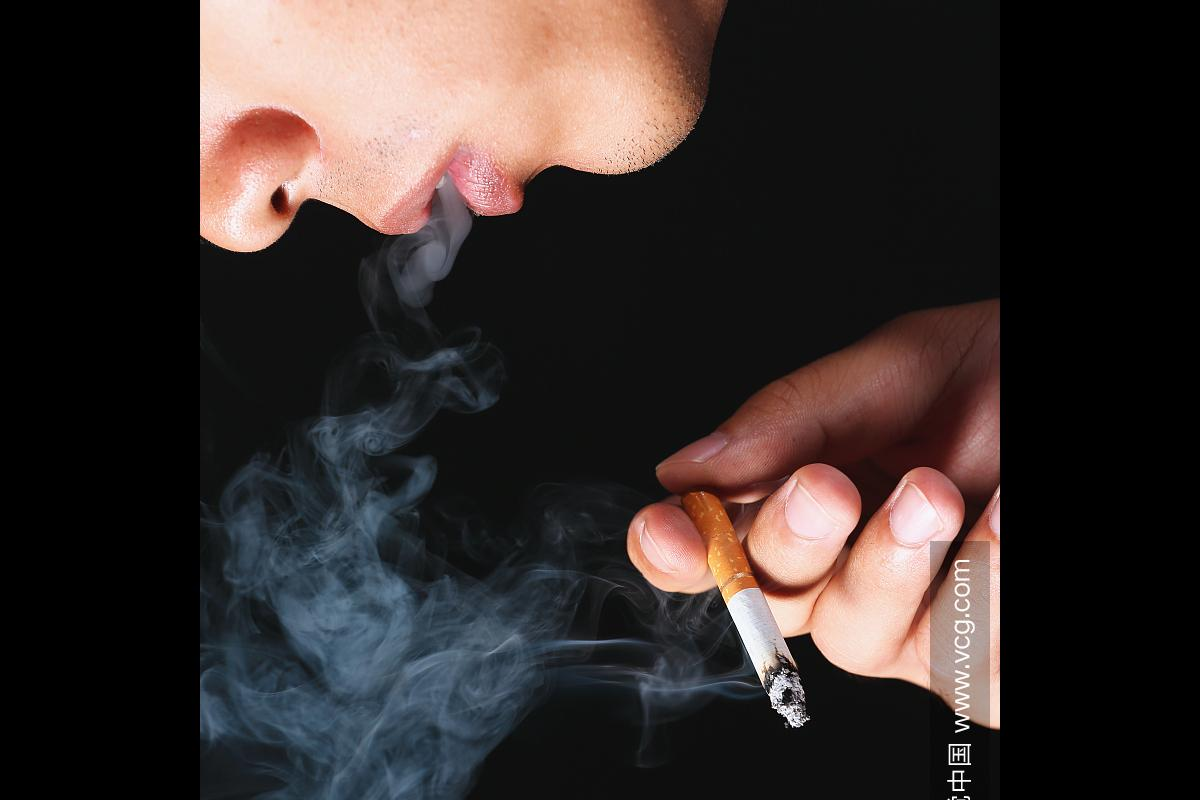Cigarette: (678, 488, 814, 728)
Smoke: (207, 208, 542, 800)
